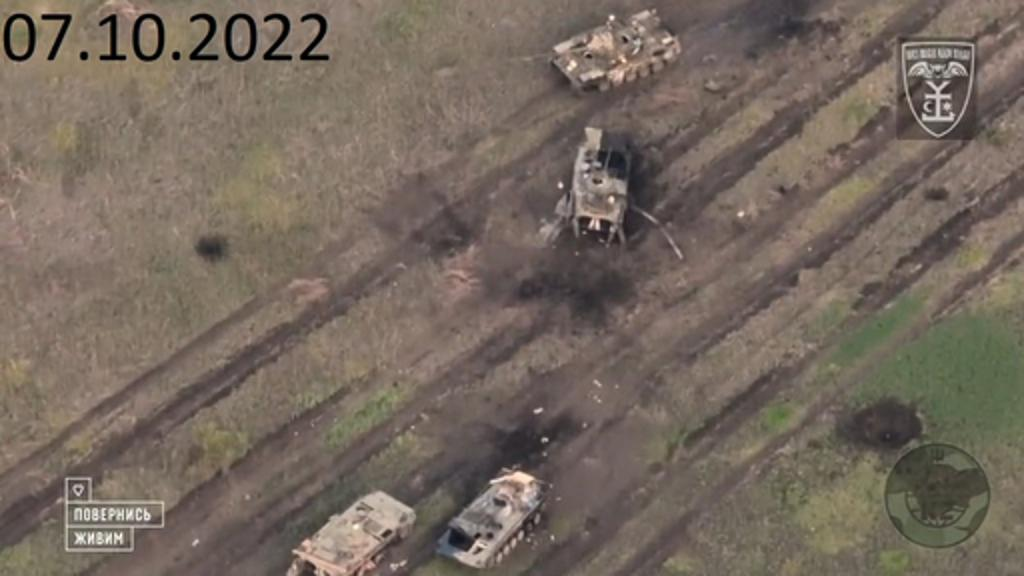APC-IFV: (432, 468, 550, 572), (288, 484, 420, 574), (556, 122, 630, 240)
TANK: (498, 4, 686, 86)
